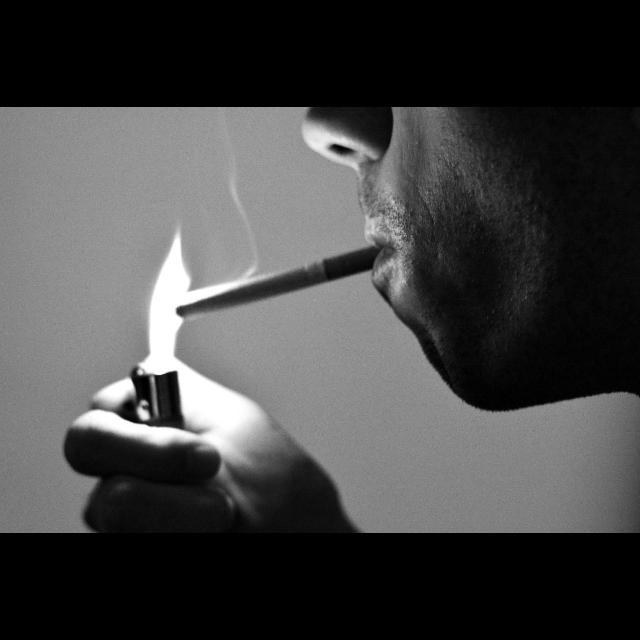rokok: (170, 235, 386, 325)
